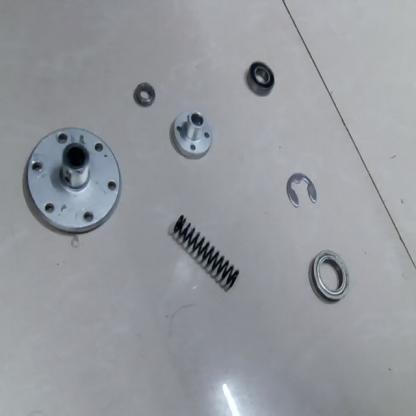FOD: (22, 122, 124, 237), (172, 209, 245, 297), (307, 246, 351, 303), (170, 107, 217, 158), (285, 169, 319, 212), (245, 60, 276, 98), (133, 78, 157, 108)
